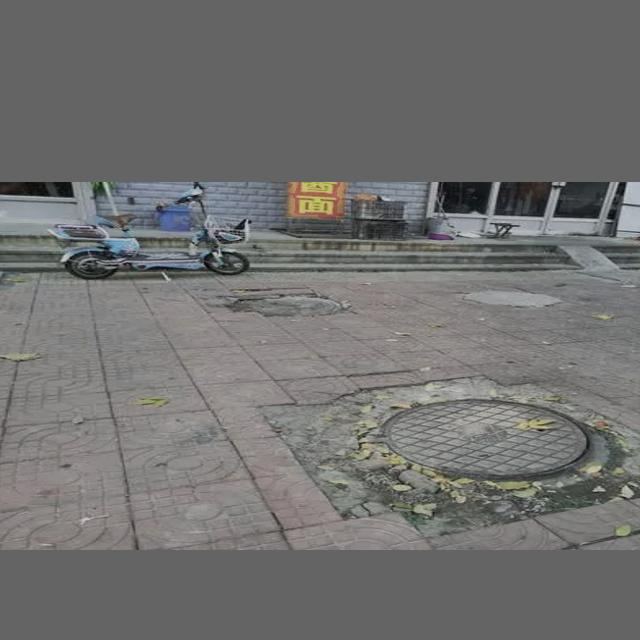circle: (278, 375, 640, 532)
